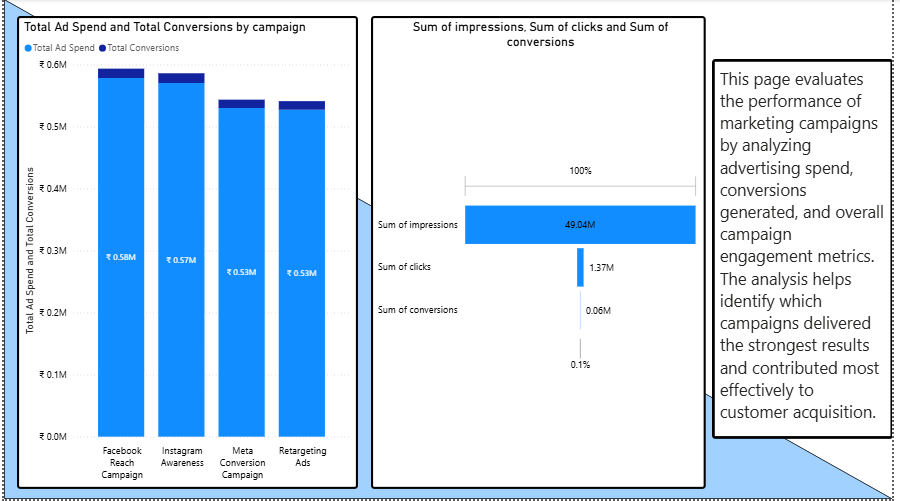

Layout of this report page (visuals, bound fields, positions):
{"tool":"powerbi","page":{"name":"Campaign Performance Analysis","canvas":[1280,720],"ordinal":10},"visuals":[{"type":"shape","box":[0,0,1280.2,720],"z":0},{"type":"columnChart","title":"Total Ad Spend and Total Conversions by campaign","fields":{"Category":["fact_marketing.campaign_name"],"Y":["Measures (2).Total Ad Spend","Measures (2).Total Conversions"]},"box":[18.7,24.5,491,681.1],"z":1000},{"type":"funnel","fields":{"Y":["Sum(fact_marketing.impressions)","Sum(fact_marketing.clicks)","Sum(fact_marketing.conversions)"]},"box":[528.5,24.5,482.4,681.1],"z":2000},{"type":"textbox","box":[1019.5,86.4,260.6,547.2],"z":3000}]}

Visuals, with their boxes in screenshot pixels (x1, y1, x2, y2), scaled from the page's 1280x720 canvas onto the 900x501 screenshot:
shape: 0:0:899:500
"Total Ad Spend and Total Conversions by campaign" columnChart: 13:17:358:491
funnel - Sum(fact_marketing.impressions) x Sum(fact_marketing.clicks): 372:17:711:491
textbox: 717:60:899:441
